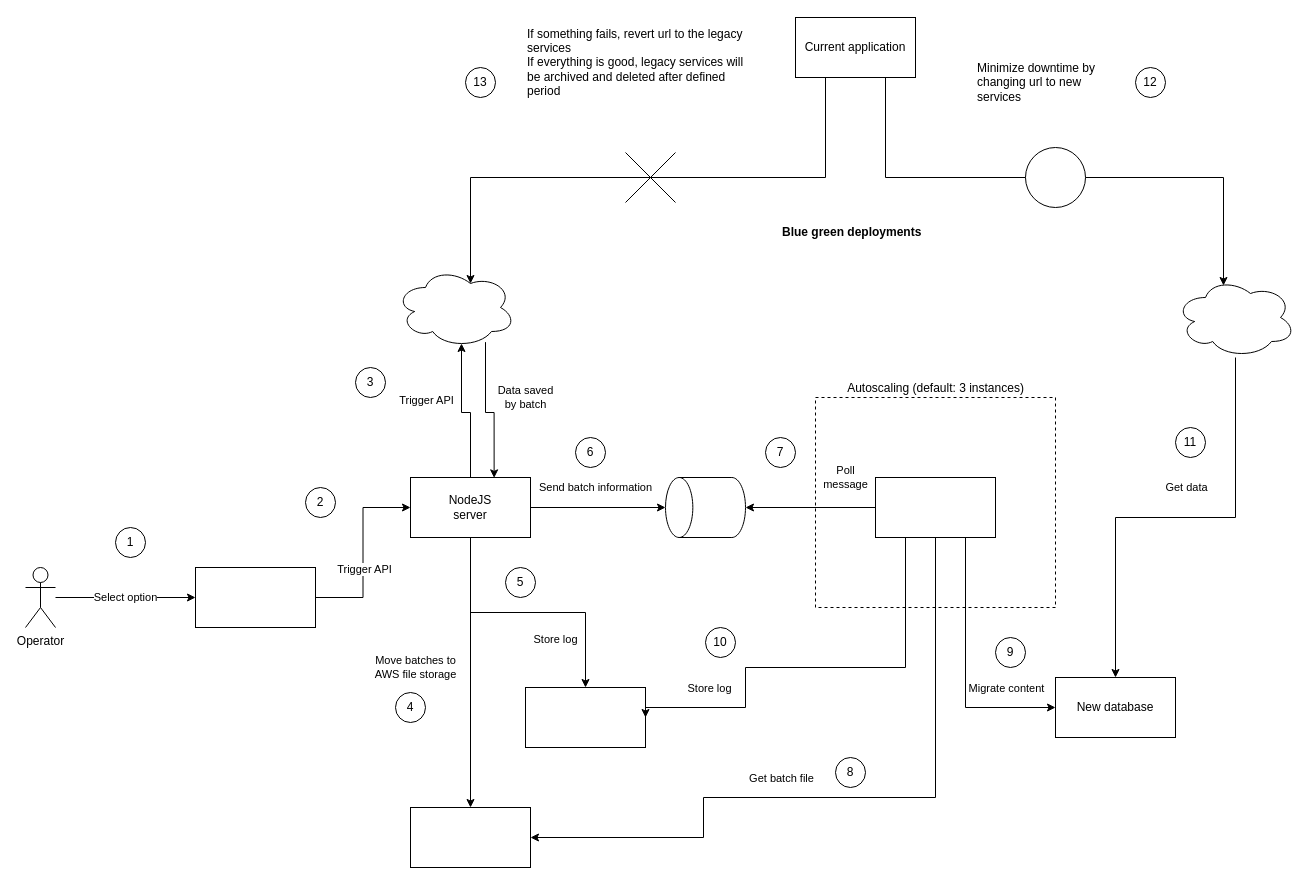
Some shapes in this 1313 by 885 pixel diagram are drawn without their labels. Each missing label, with the box of its shape:
File storage: (410, 806, 530, 868)
Java server (Spring boot): (874, 476, 996, 538)
Legacy services: (394, 266, 516, 348)
New services: (1174, 276, 1296, 358)
Queue: (664, 476, 746, 538)
Shell Console: (194, 566, 316, 628)
Tracking database: (524, 686, 646, 748)
